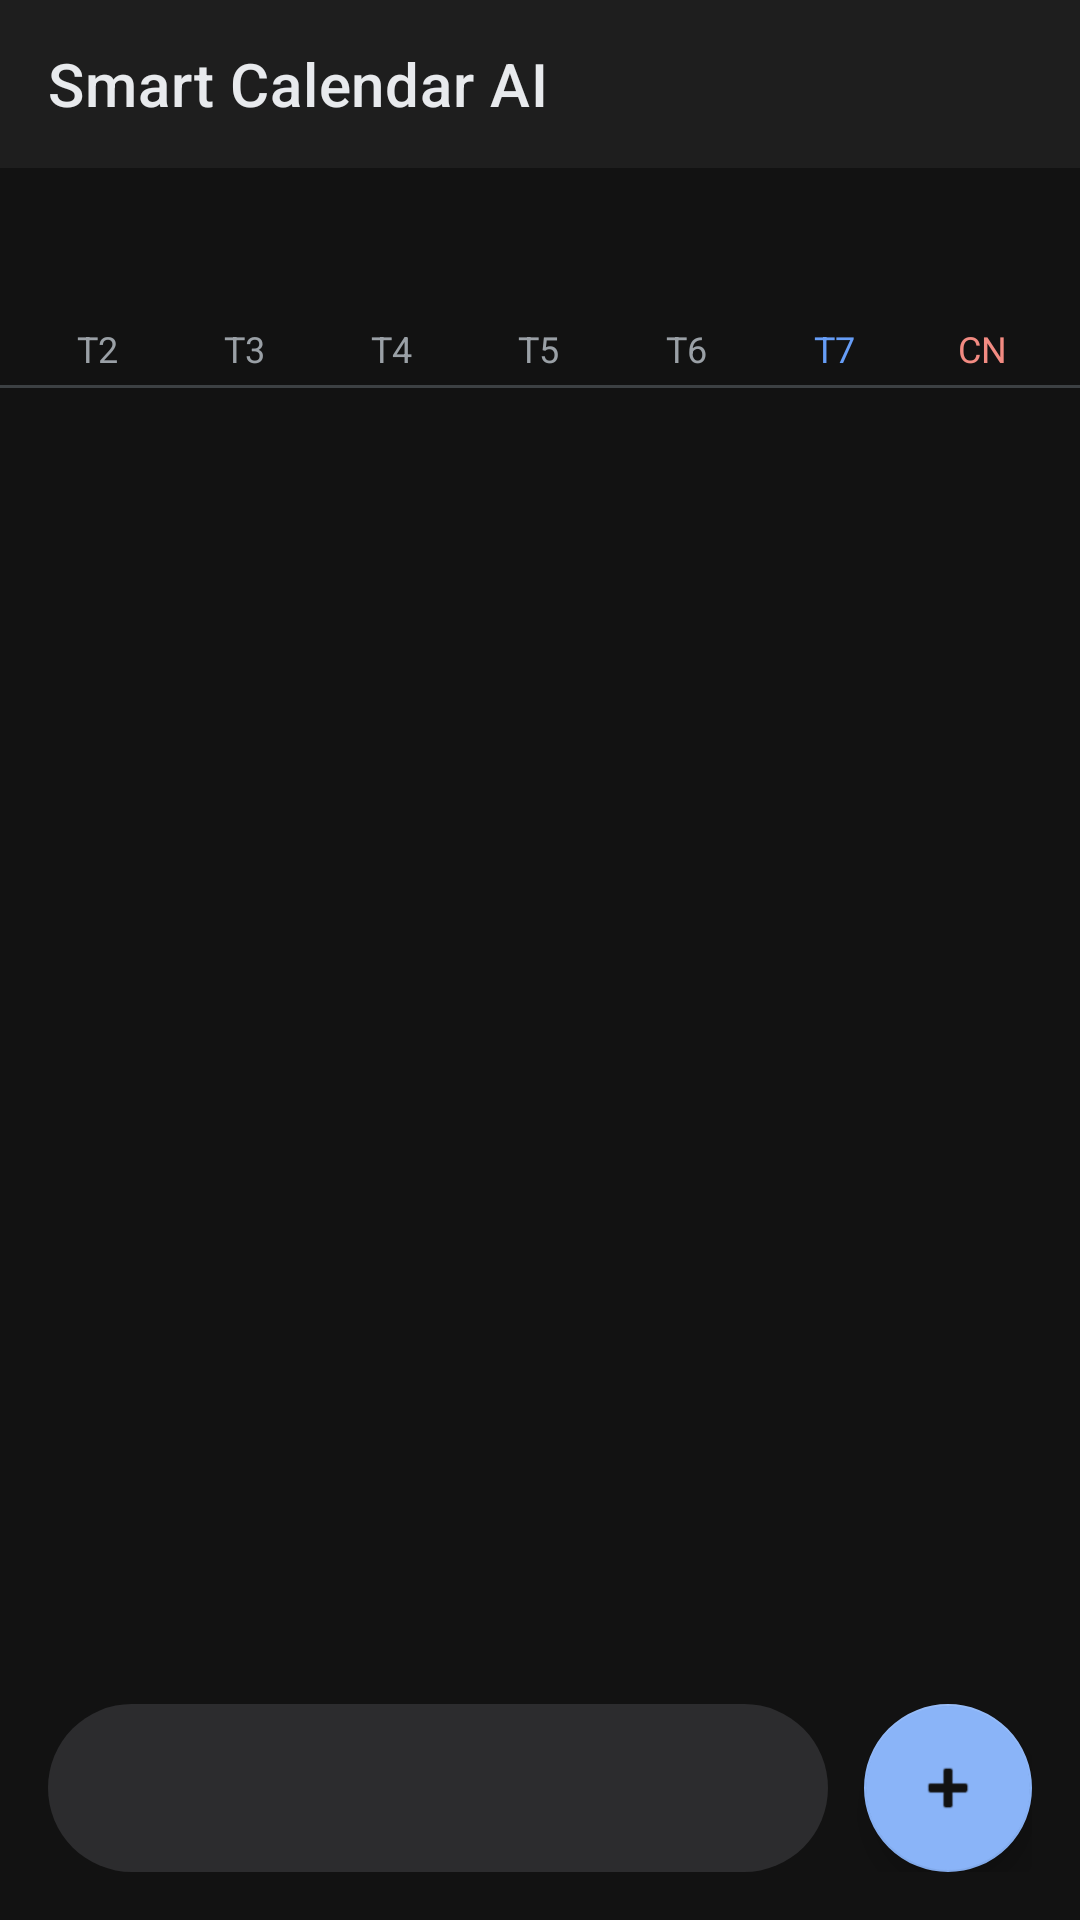

Icons on this 1080x1920 Android screen, each with its box as BBox(x1, y1, x2, y2):
Thêm sự kiện: BBox(864, 1704, 1032, 1872)
